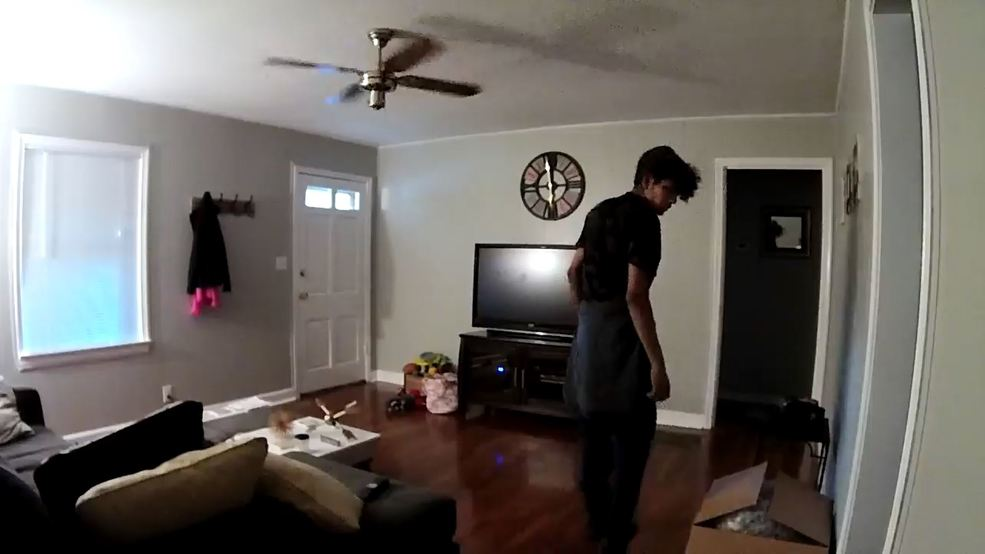Person: (553, 136, 706, 546)
